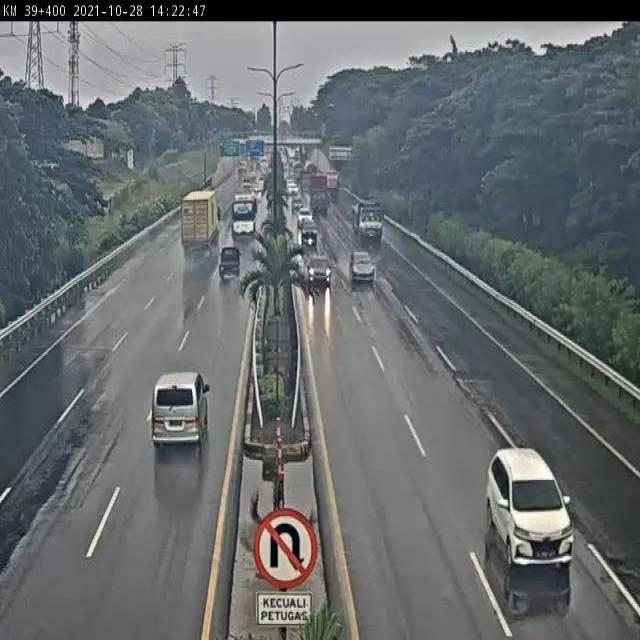big bus: (232, 194, 260, 238)
truck-l-: (350, 196, 384, 244)
truck-xl-: (176, 186, 223, 258)
